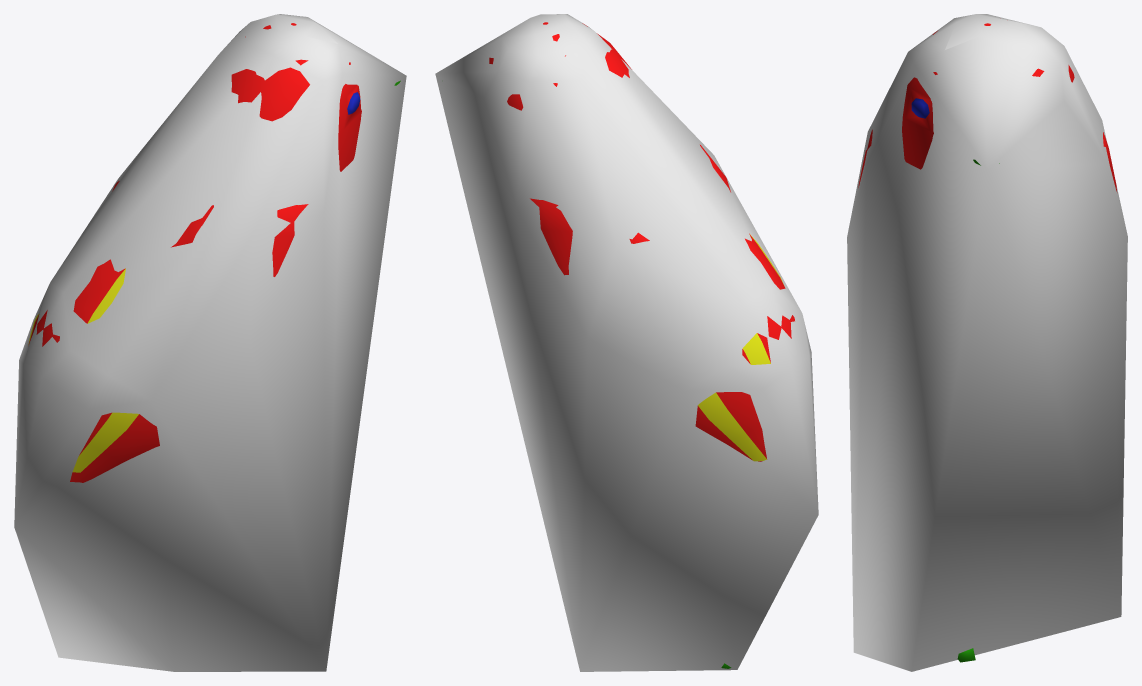
Rendered from quailChick.fbx.
3 views of the same model, side by side, from view 1: azimuth 30°, elevation 25°; view 2: azimuth 150°, elevation 25°; view 3: azimuth 270°, elevation 25° (orthographic). The views are drawn at different scales.
Parts seen in each view (by area): view 1: quailChickConvexHull, quailChick; view 2: quailChickConvexHull, quailChick; view 3: quailChickConvexHull, quailChick.
Boxes of the visible parts, x1=… form: quailChickConvexHull: x1=14, y1=14, x2=406, y2=671; quailChick: x1=28, y1=23, x2=400, y2=482; quailChickConvexHull: x1=435, y1=14, x2=818, y2=671; quailChick: x1=489, y1=22, x2=794, y2=668; quailChickConvexHull: x1=847, y1=14, x2=1127, y2=671; quailChick: x1=858, y1=23, x2=1117, y2=662.
Size of the model in its own units: 54.19 by 79.14 by 31.05.
